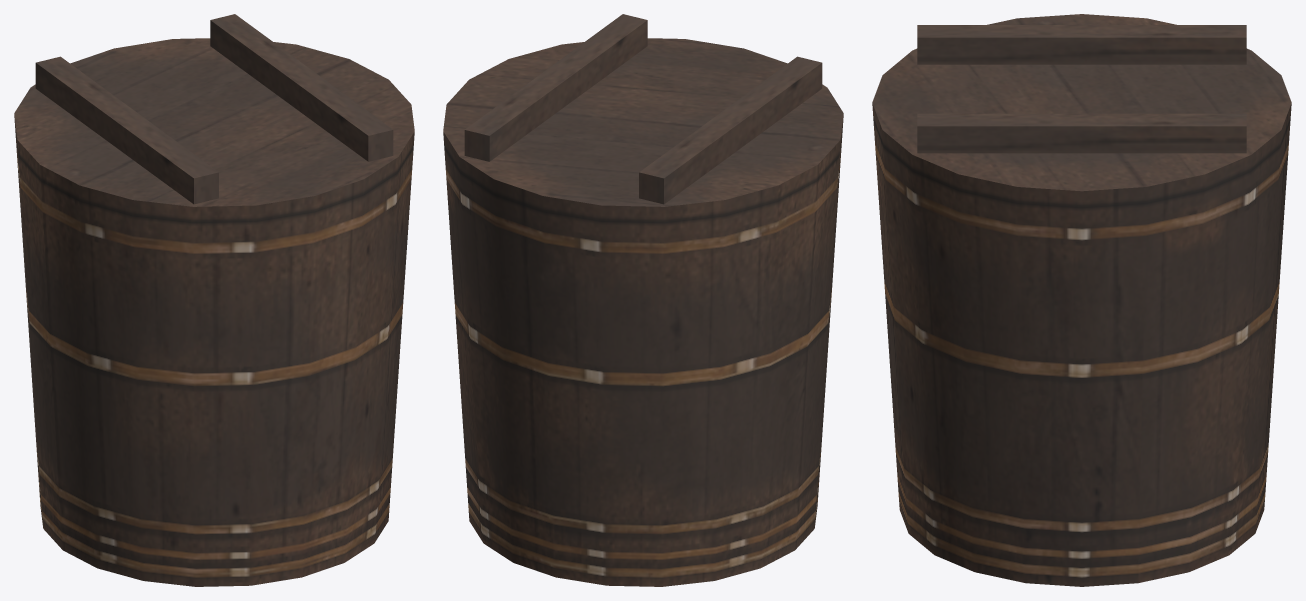
The model's file is Barrel01.fbx.
3 views of the same model, side by side, from view 1: azimuth 30°, elevation 25°; view 2: azimuth 150°, elevation 25°; view 3: azimuth 270°, elevation 25° (orthographic). The views are drawn at different scales.
Parts seen in each view (by area): view 1: Barrel01; view 2: Barrel01; view 3: Barrel01.
Part boxes in pixels (x1,y1,x2,y2): Barrel01: (14,14,414,586); Barrel01: (443,14,843,586); Barrel01: (872,14,1291,586).
Bounding box in the file's own units: 46.2 × 52.79 × 46.2.
Materials: 1 (1 with a texture image).
